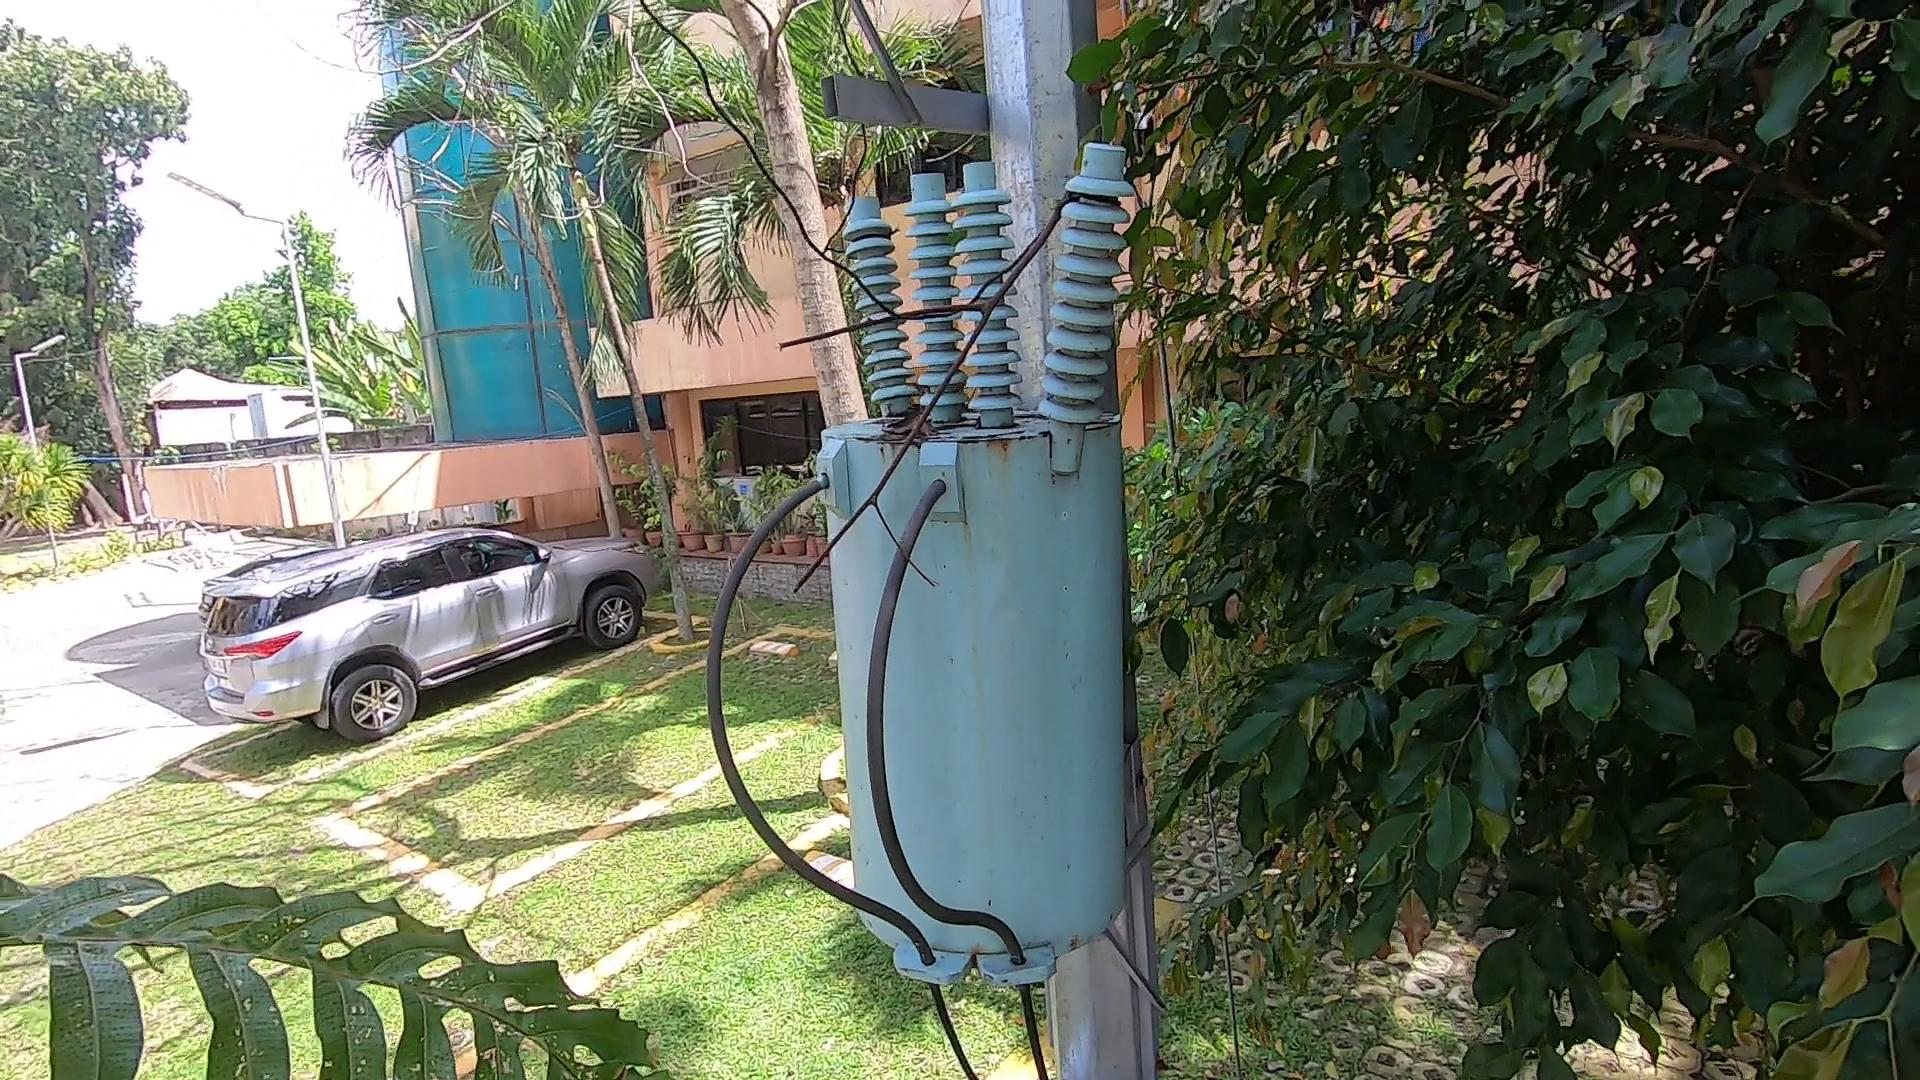leaf: (869, 402, 944, 443)
tree branch: (760, 125, 1091, 618)
